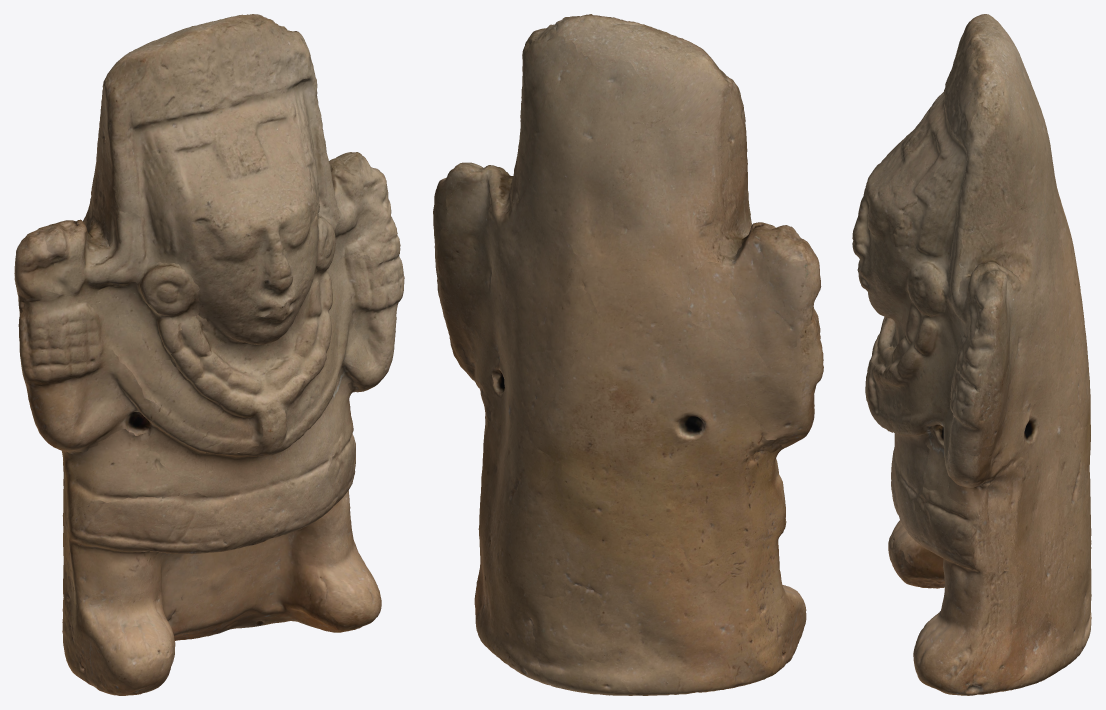
The model's file is maya-transformed.glb.
The picture shows the model from 3 angles, left to right: view 1: azimuth 30°, elevation 25°; view 2: azimuth 150°, elevation 25°; view 3: azimuth 270°, elevation 25°; orthographic projection. The views are drawn at different scales.
Visible parts, largest first — view 1: 1923.06.0589 (maya-figur); view 2: 1923.06.0589 (maya-figur); view 3: 1923.06.0589 (maya-figur).
Boxes of the visible parts, x1=… form: 1923.06.0589 (maya-figur): x1=14, y1=14, x2=404, y2=695; 1923.06.0589 (maya-figur): x1=433, y1=14, x2=823, y2=695; 1923.06.0589 (maya-figur): x1=852, y1=14, x2=1091, y2=695.
Bounding box in the file's own units: 1.12 × 1.75 × 0.6353.
Materials: 1 (1 with a texture image).
